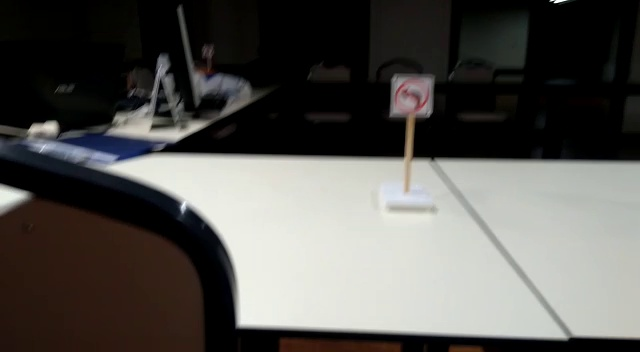sola_donulmez: (392, 75, 434, 117)
